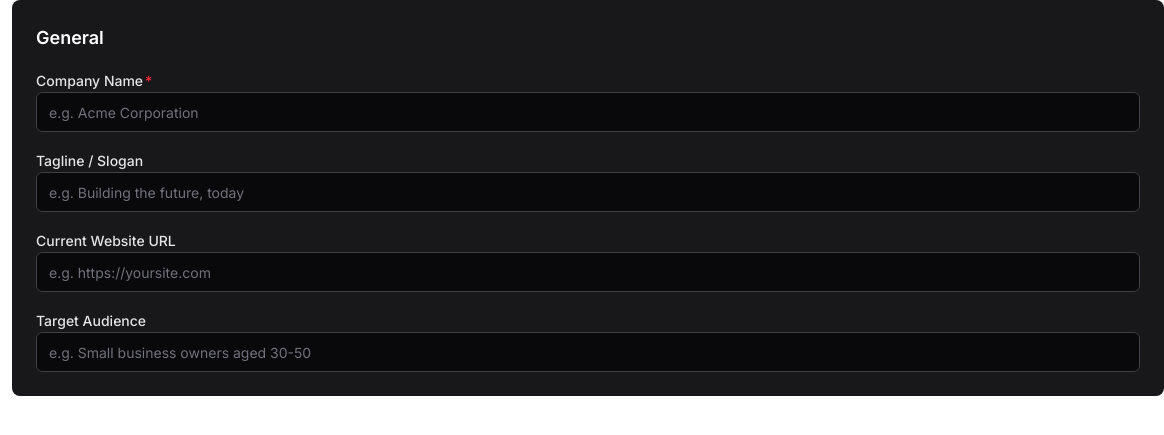
<GeneralSection> › updates form state when the user types into Company Name
This screenshot has width=1164, height=435.
In the field with placeholder "e.g. Acme Corporation": (588, 112) [36,92,1140,132], type "Aurora Property Group"
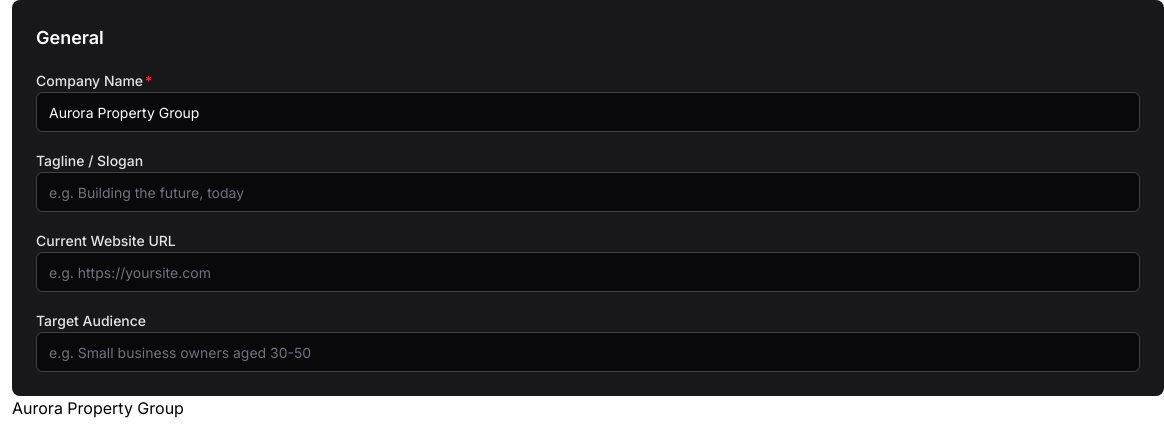
Expected: the text with test id "value-companyName" reads "Aurora Property Group", [12,398,184,418]
